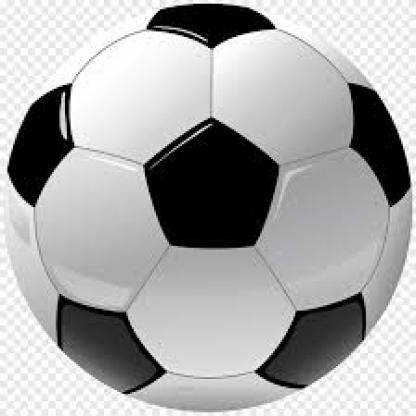ball: (54, 77, 372, 339)
